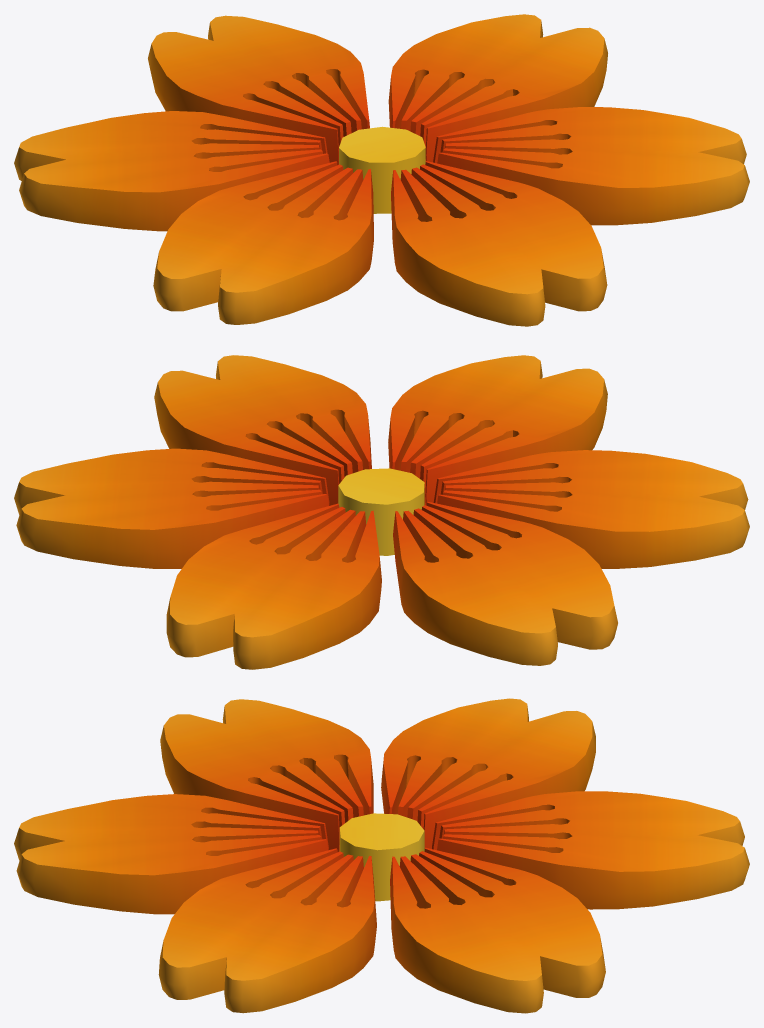
The model's file is Orange1.1.fbx.
3 views of the same model, one above another, from view 1: azimuth 30°, elevation 25°; view 2: azimuth 150°, elevation 25°; view 3: azimuth 270°, elevation 25° (orthographic).
Parts seen in each view (by area): view 1: Cylinder004.004; view 2: Cylinder004.004; view 3: Cylinder004.004.
Boxes of the visible parts, x1,y1,x2,y2 form: Cylinder004.004: (14, 14, 749, 326); Cylinder004.004: (14, 355, 749, 669); Cylinder004.004: (14, 698, 749, 1013).
Bounding box in the file's own units: 29.68 × 2.47 × 32.19.
